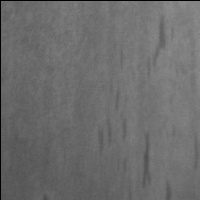inclusion: (92, 86, 132, 157), (142, 14, 173, 82), (135, 126, 159, 193), (164, 176, 176, 200)
